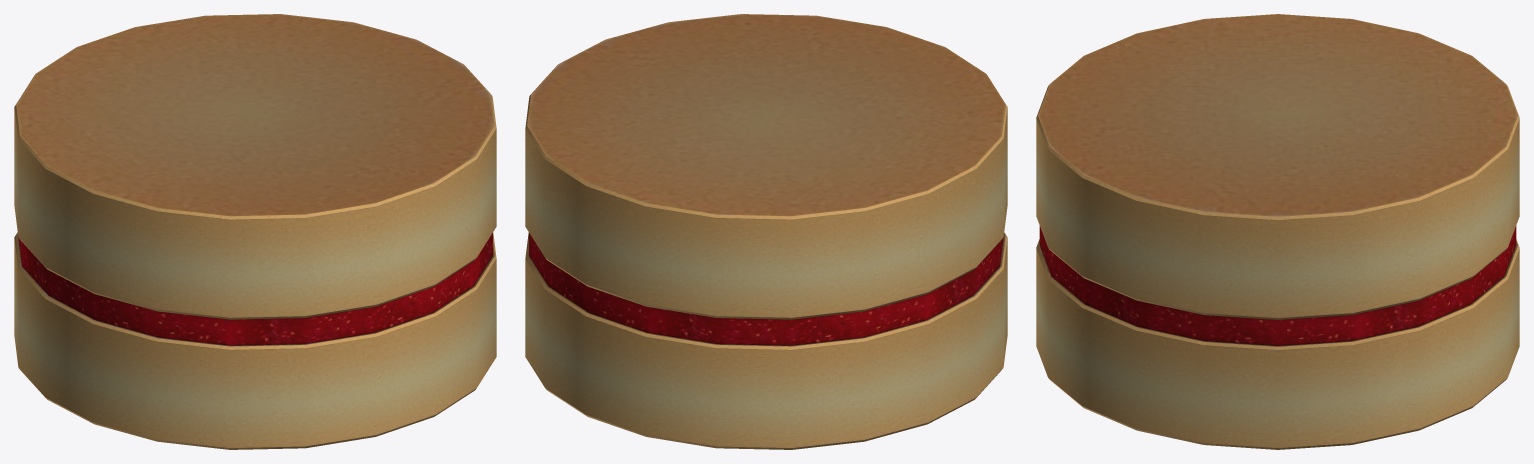
The model's file is jamCake.gltf.
3 renders of one model, left to right at view 1: azimuth 30°, elevation 25°; view 2: azimuth 150°, elevation 25°; view 3: azimuth 270°, elevation 25°, orthographic.
Parts seen in each view (by area): view 1: JamCakeLayer, JamCakeBottomLayer, JamCakeFilling; view 2: JamCakeLayer, JamCakeBottomLayer, JamCakeFilling; view 3: JamCakeLayer, JamCakeBottomLayer, JamCakeFilling.
Boxes of the visible parts, x1,y1,x2,y2 form: JamCakeLayer: (14,14,496,319); JamCakeBottomLayer: (14,232,496,449); JamCakeFilling: (18,233,492,345); JamCakeLayer: (525,14,1007,319); JamCakeBottomLayer: (525,232,1007,449); JamCakeFilling: (529,233,1003,345); JamCakeLayer: (1036,14,1519,319); JamCakeBottomLayer: (1036,239,1519,449); JamCakeFilling: (1039,226,1516,345).
Size of the model in its own units: 0.2655 by 0.1412 by 0.2655.
Materials: 1 (1 with a texture image).
